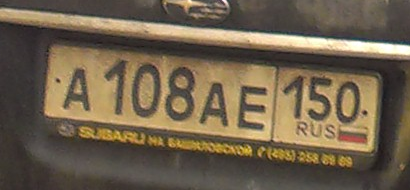character: (164, 64, 196, 126), (132, 63, 162, 121), (101, 57, 129, 114), (237, 83, 270, 130), (59, 65, 91, 112), (200, 82, 232, 129), (307, 74, 332, 124), (334, 78, 361, 122), (281, 72, 305, 121)
